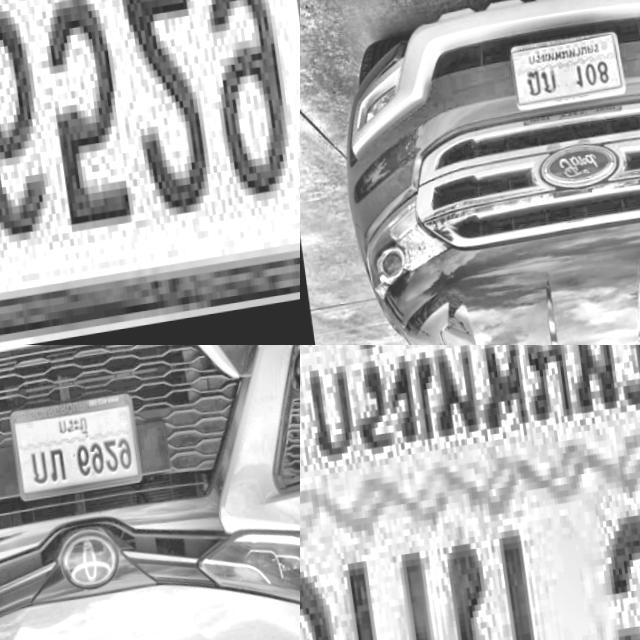license-plate: (0, 0, 300, 345), (300, 345, 640, 640), (6, 388, 145, 516), (507, 28, 627, 113)
